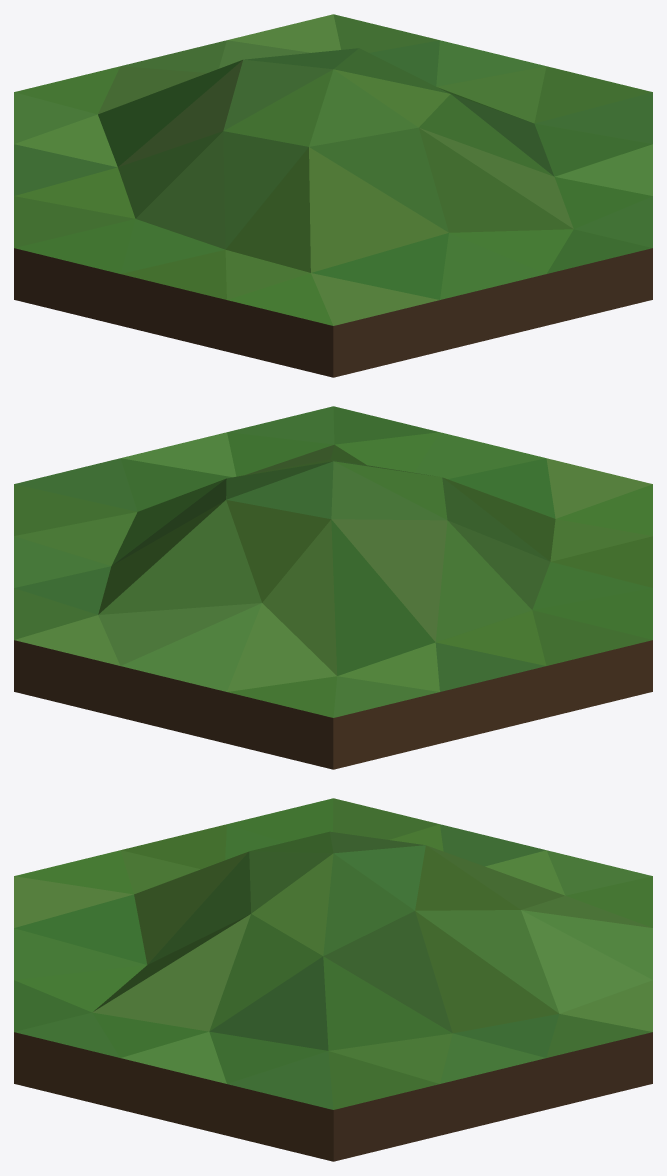
The model's file is Grassland Hill-Far.glb.
The picture shows the model from 3 angles, top to bottom: view 1: azimuth 30°, elevation 25°; view 2: azimuth 150°, elevation 25°; view 3: azimuth 270°, elevation 25°; orthographic projection.
Visible parts, largest first — view 1: Grassland Hill-Far; view 2: Grassland Hill-Far; view 3: Grassland Hill-Far.
Boxes of the visible parts, x1,y1,x2,y2 form: Grassland Hill-Far: [14, 14, 652, 377]; Grassland Hill-Far: [14, 406, 652, 769]; Grassland Hill-Far: [14, 798, 652, 1161].
Bounding box in the file's own units: 1.94 × 0.4425 × 1.68.
